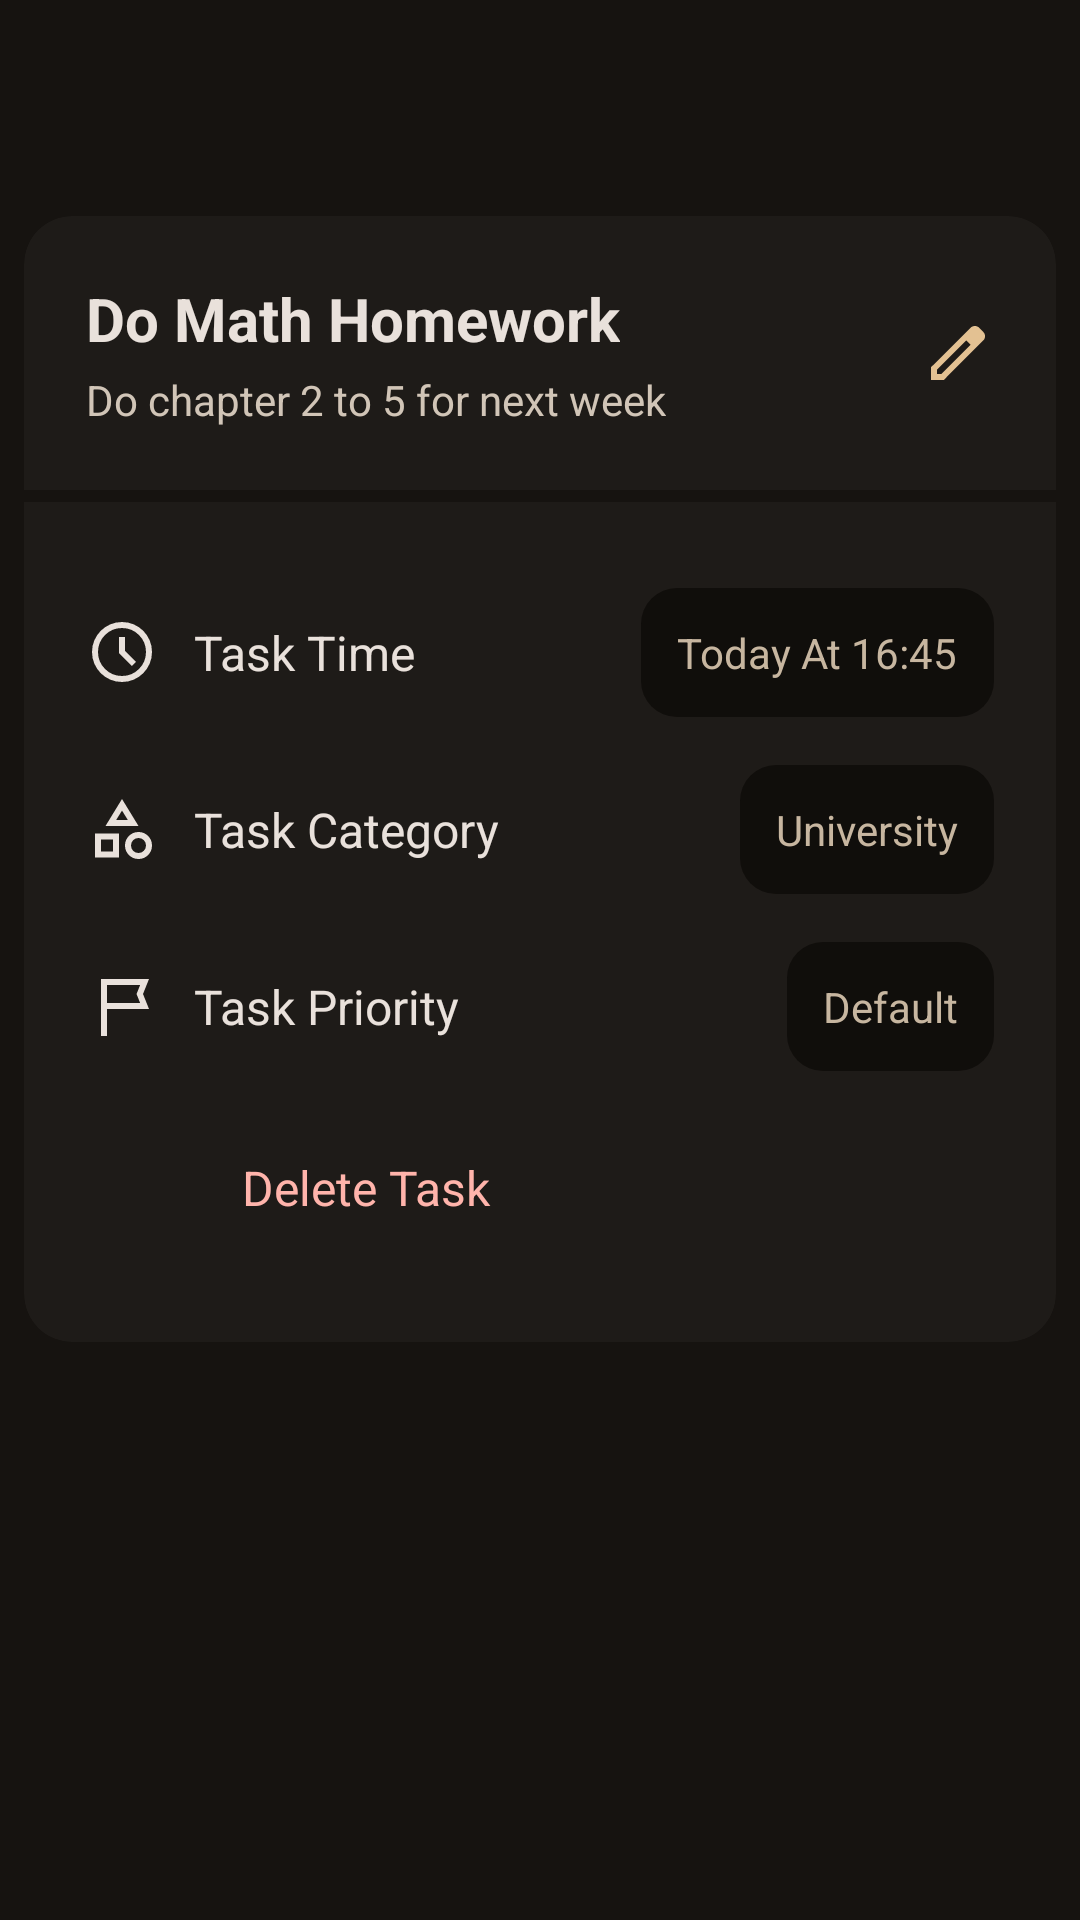

Icon click points for this 1080px×1920px phone screenshot, format (x,y):
edit: (958,353)
schedule: (122,652)
